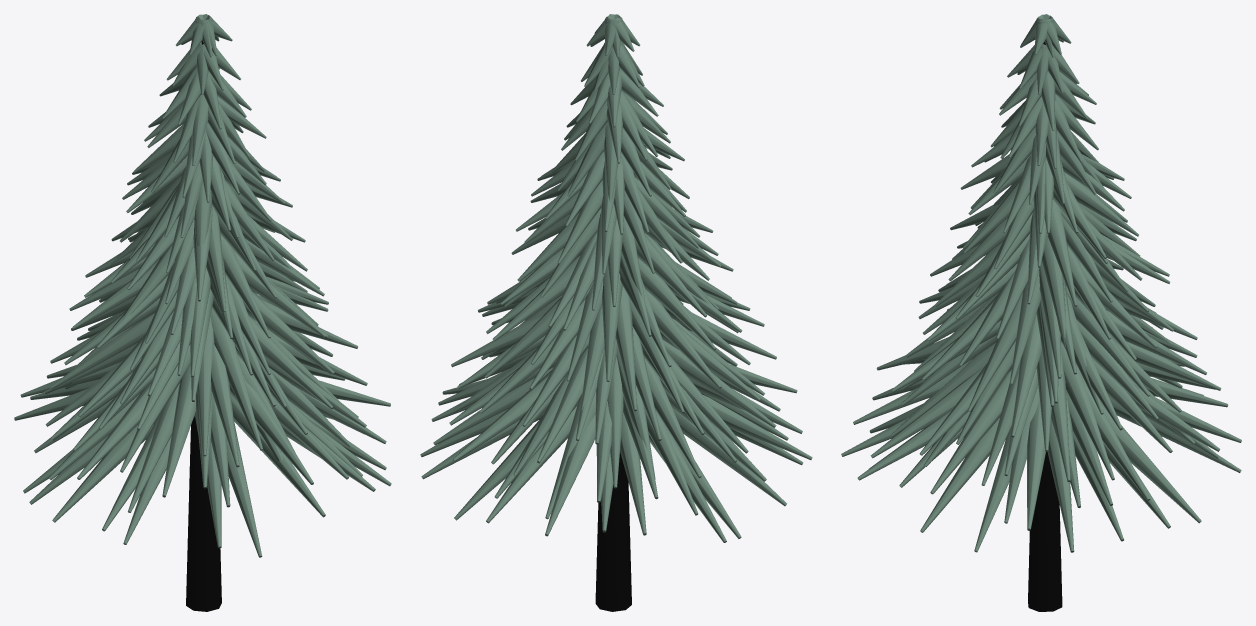
The model's file is pine-tree.glb.
The picture shows the model from 3 angles, left to right: view 1: azimuth 30°, elevation 25°; view 2: azimuth 150°, elevation 25°; view 3: azimuth 270°, elevation 25°; orthographic projection.
Bounding box in the file's own units: 21.48 × 35.43 × 21.87.
